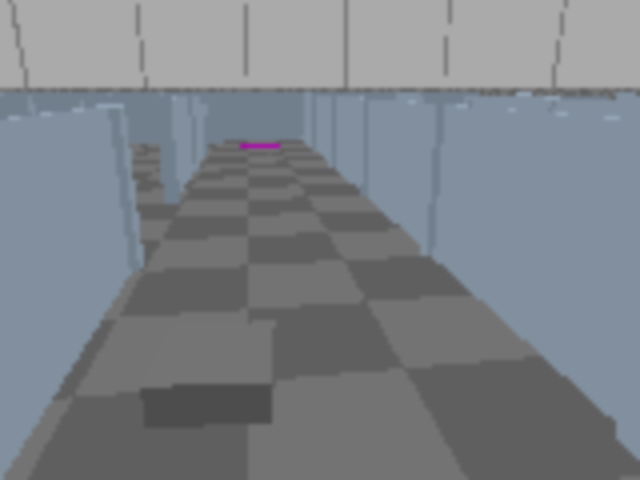obstacle: (140, 321, 276, 429)
